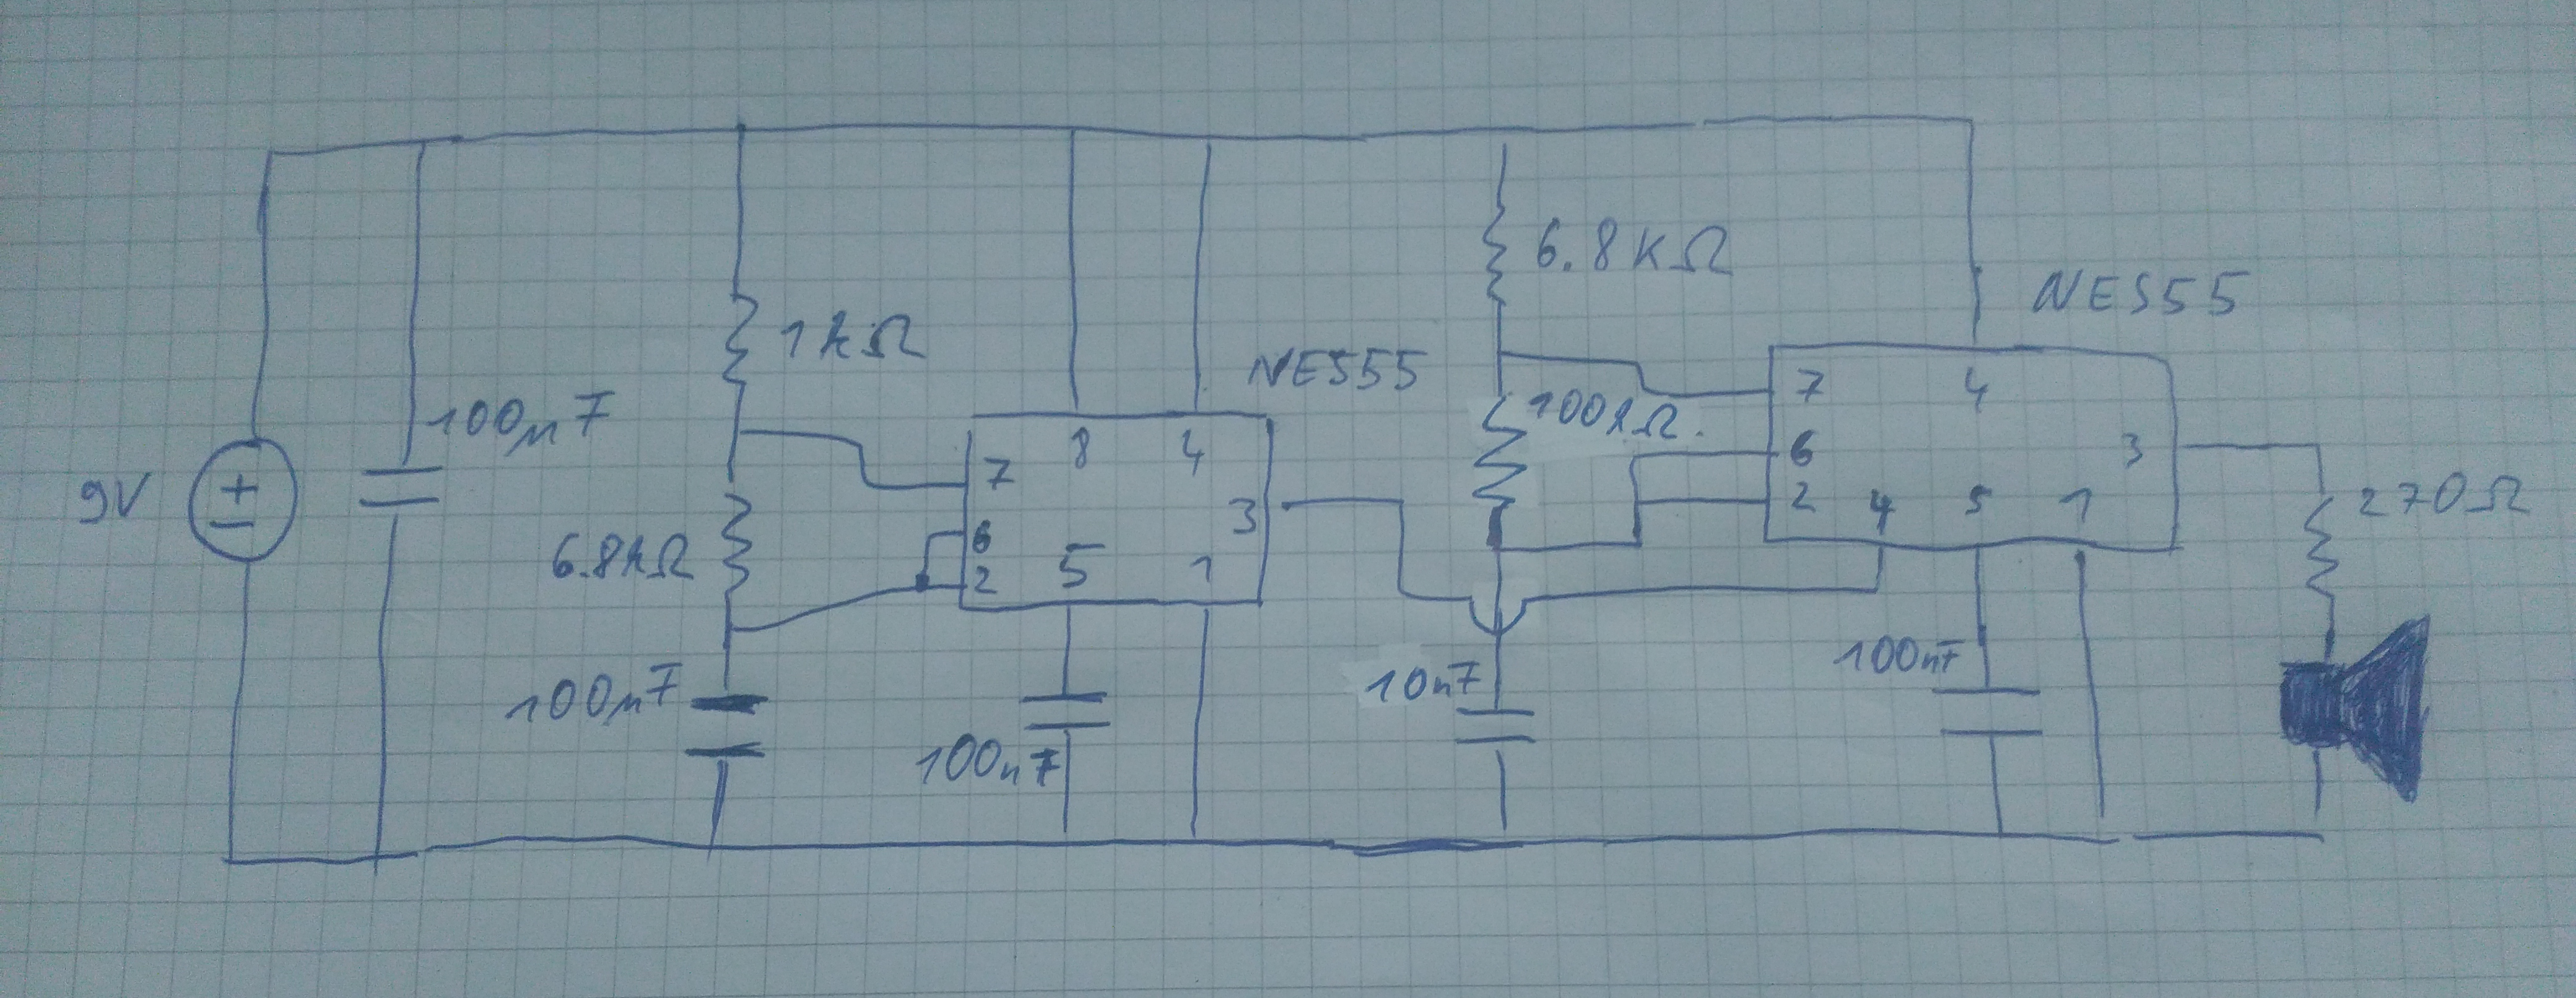capacitor.unpolarized: (1919, 681, 2055, 748), (680, 688, 779, 771), (1007, 683, 1127, 740), (352, 461, 453, 519), (1444, 699, 1549, 752)
crossover: (1457, 584, 1539, 642)
integrated_cricuit.ne555: (1758, 333, 2192, 560), (953, 399, 1281, 622)
junction: (2078, 785, 2139, 857), (680, 814, 739, 885), (350, 832, 412, 893), (200, 829, 261, 890), (2290, 790, 2348, 854), (1482, 808, 1538, 868), (1170, 804, 1226, 865), (1973, 799, 2029, 858), (1479, 113, 1534, 166), (1045, 806, 1092, 867), (2297, 422, 2343, 473), (1474, 532, 1529, 573), (900, 565, 946, 612), (1480, 333, 1526, 378), (1617, 483, 1667, 522), (402, 118, 444, 166), (1947, 100, 1988, 148), (1618, 524, 1663, 566), (1191, 121, 1232, 167), (1382, 481, 1423, 527), (1055, 110, 1092, 158), (1380, 573, 1424, 611), (711, 611, 752, 647), (723, 115, 764, 149), (1613, 350, 1661, 378), (721, 417, 762, 448), (1620, 440, 1654, 476), (1858, 573, 1893, 606), (839, 428, 876, 460), (918, 519, 950, 555), (256, 141, 289, 174), (849, 465, 881, 497), (1631, 379, 1663, 402)
resistor: (1469, 376, 1536, 527), (2293, 481, 2354, 617), (716, 272, 772, 410), (705, 486, 764, 606), (1475, 190, 1521, 323)
speaker: (2261, 609, 2446, 811)
text: (1526, 207, 1740, 284), (491, 655, 692, 730), (424, 387, 619, 456), (2029, 263, 2254, 320), (2349, 461, 2538, 529), (1242, 340, 1434, 401), (540, 522, 700, 591), (908, 727, 1063, 798), (777, 304, 933, 371), (1528, 382, 1686, 448), (1832, 630, 1971, 691), (1359, 657, 1490, 711), (74, 466, 159, 530), (1056, 540, 1107, 593), (1957, 364, 1996, 415), (1865, 486, 1902, 537), (2055, 479, 2091, 530), (979, 455, 1019, 494), (1794, 363, 1828, 407), (2116, 427, 2146, 476), (1226, 492, 1258, 537), (1180, 425, 1207, 476), (1962, 479, 1994, 520), (1068, 423, 1094, 471), (1787, 427, 1819, 466), (1786, 476, 1819, 512), (1184, 552, 1216, 586), (969, 563, 1000, 597), (971, 517, 994, 558)
voltage.dc: (181, 433, 302, 566)
